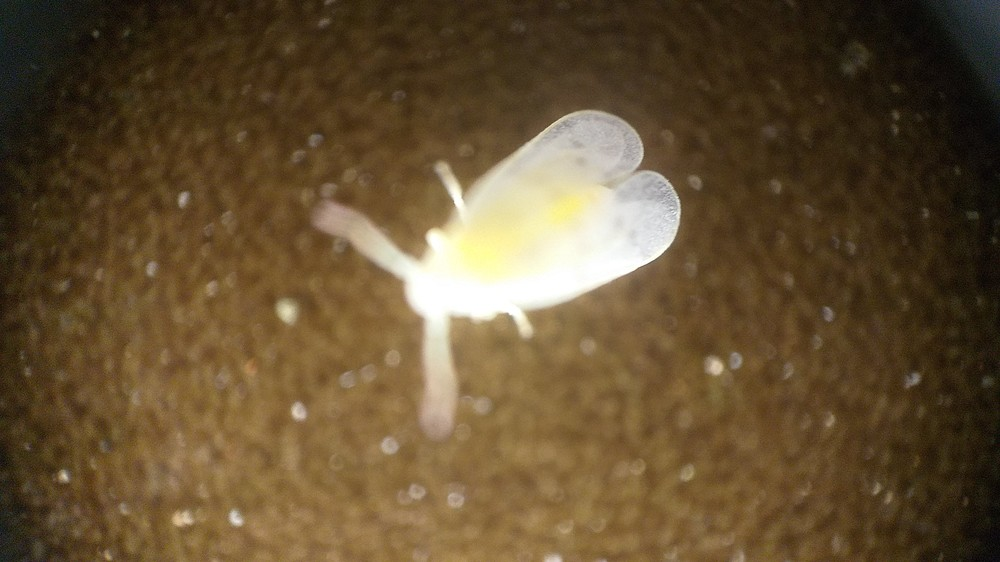Mosca Blanca: (304, 103, 703, 432)
